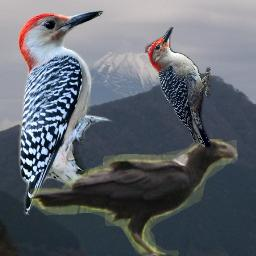Crow: (30, 139, 238, 256)
Woodpecker: (7, 1, 146, 233), (145, 27, 211, 147)
